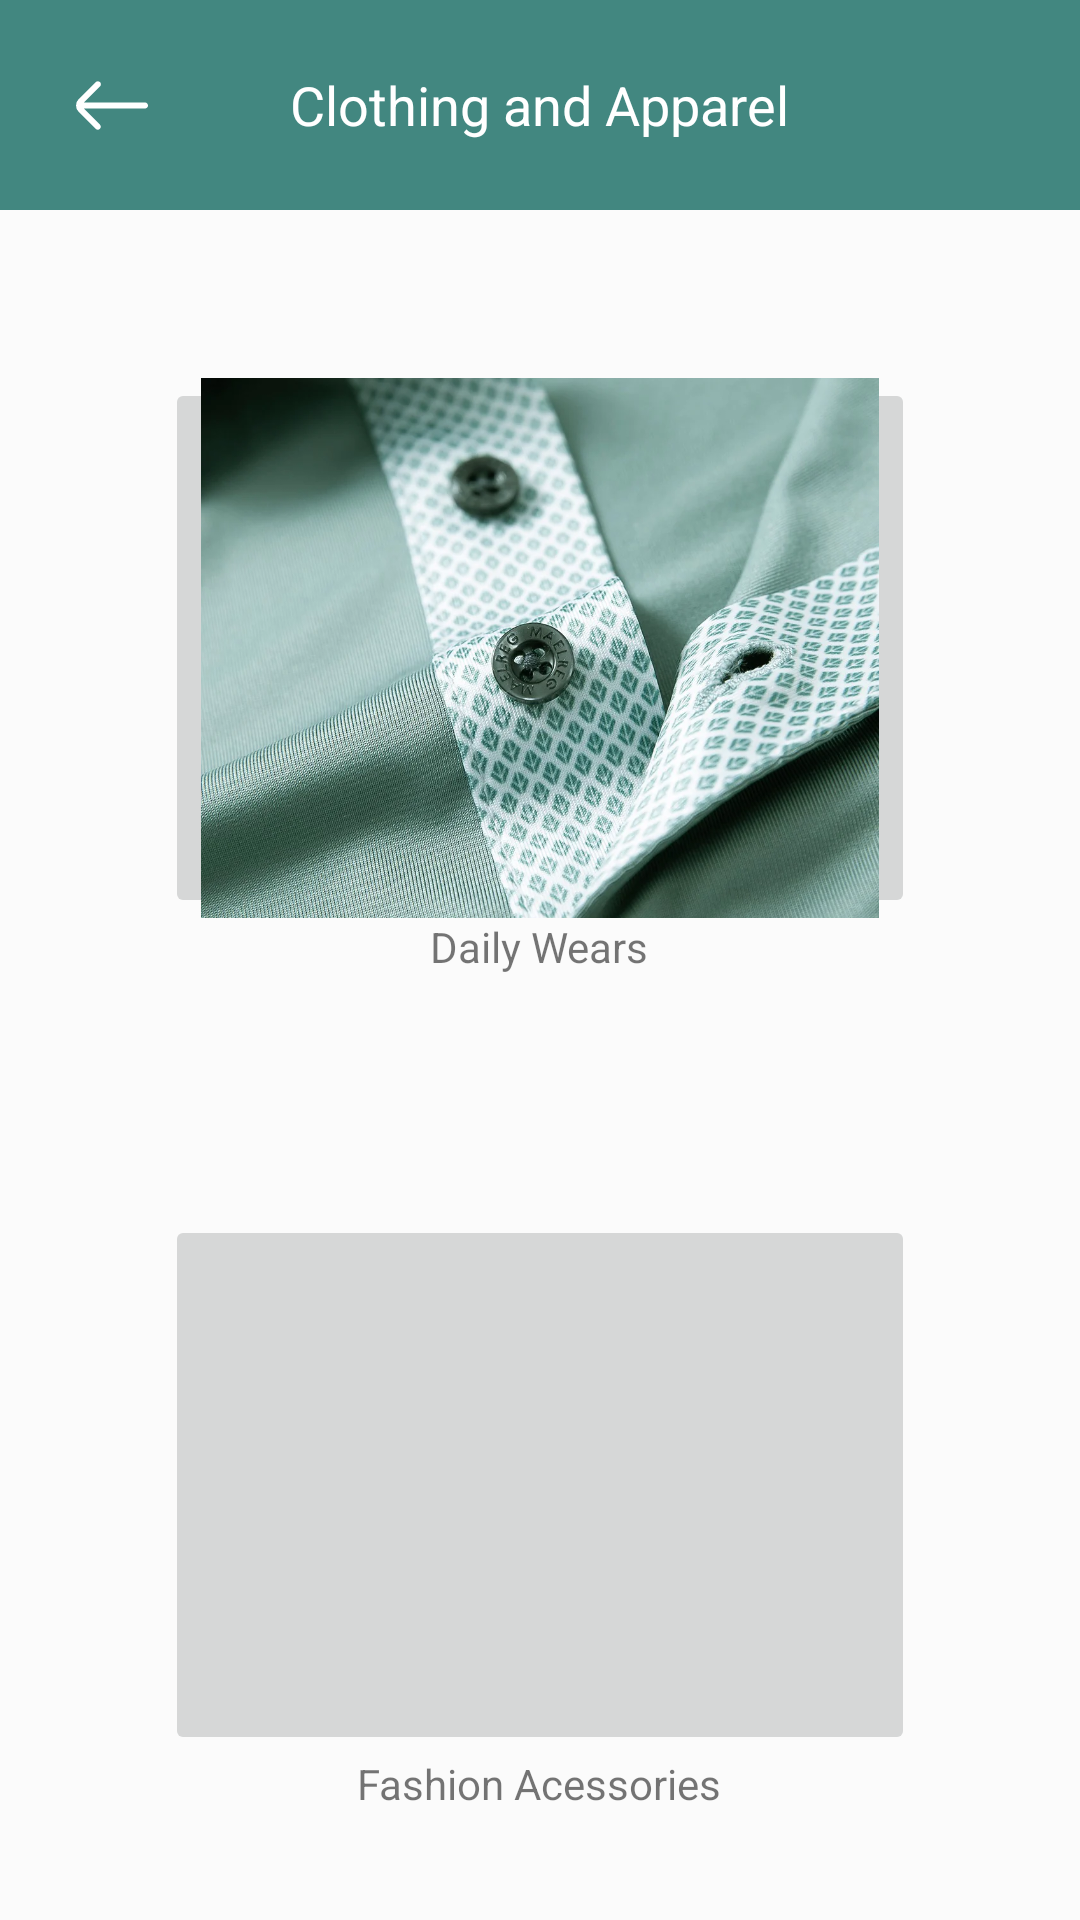

Icon bounding boxes for this 1080w x 1920h phone screenshot, format (x1, y1, x2, y2):
return: (76, 81, 148, 130)
